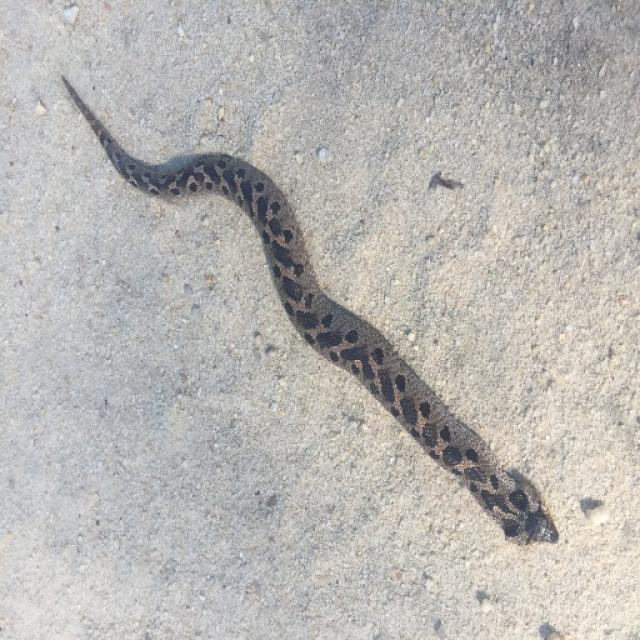snake: (56, 63, 566, 556)
